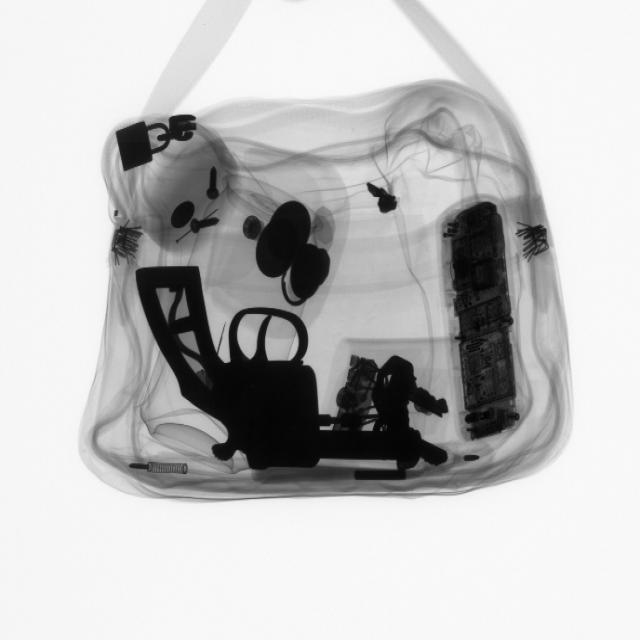GUN: (143, 255, 407, 476)
SCREW: (197, 159, 241, 209), (178, 207, 233, 246)
